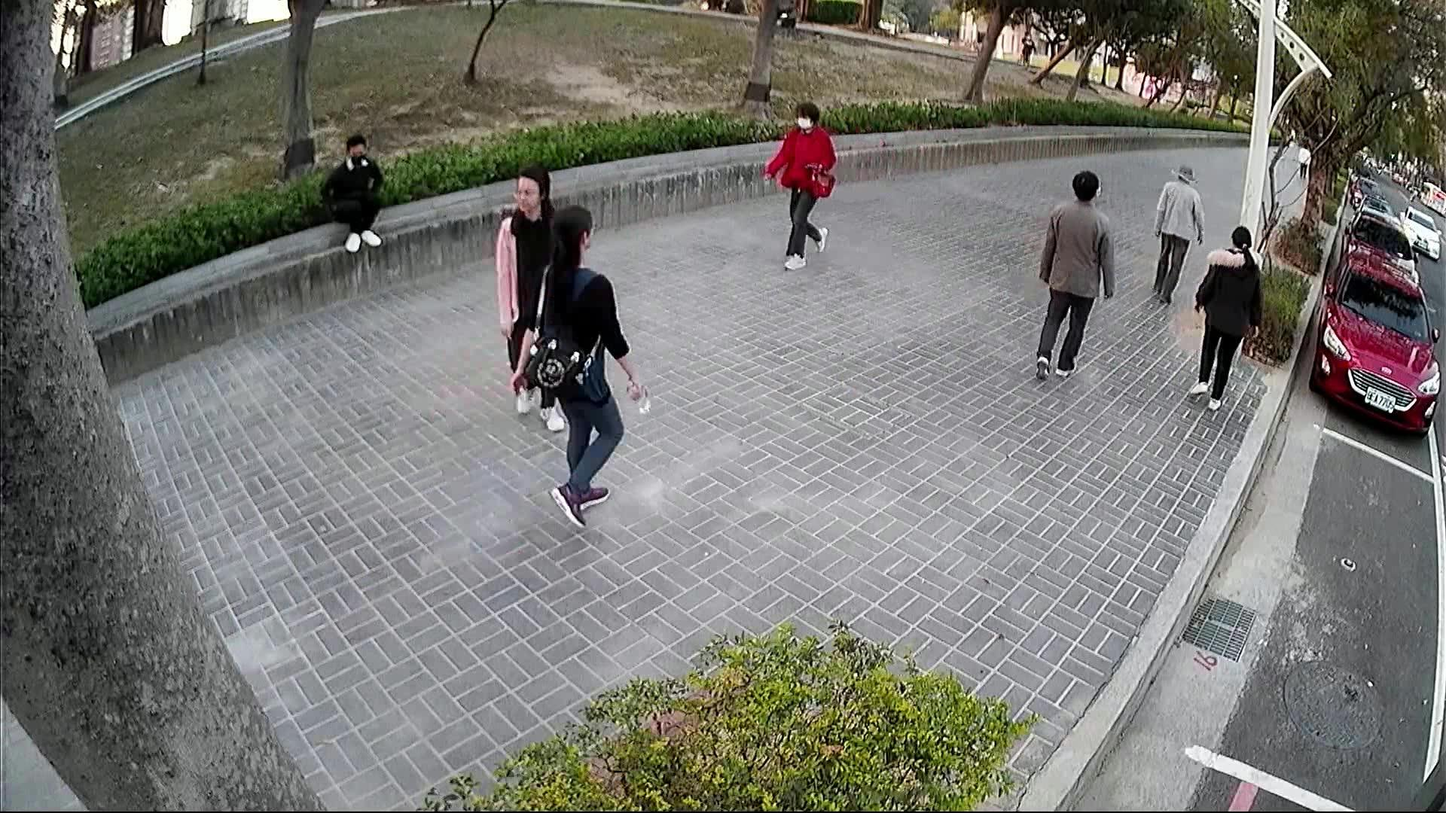person: (506, 196, 654, 535), (490, 159, 569, 438), (1027, 162, 1118, 385), (1181, 221, 1266, 412), (755, 92, 835, 271), (1139, 154, 1213, 311), (318, 132, 386, 254)
